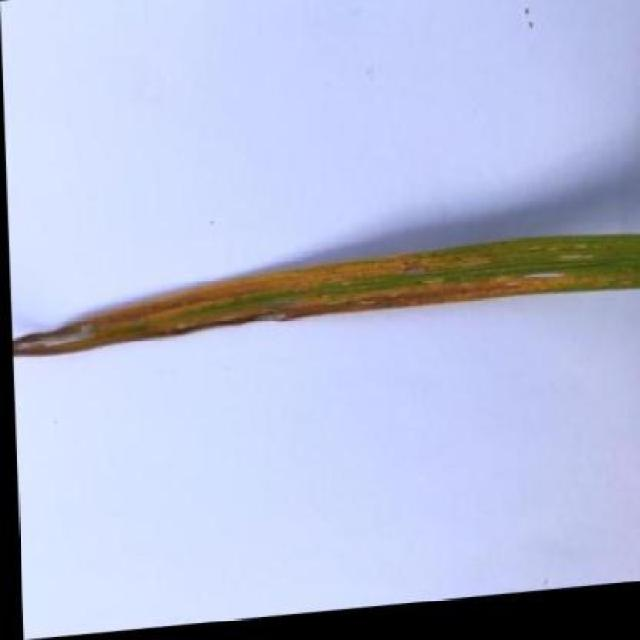Rice False Smut: (7, 235, 640, 361)
